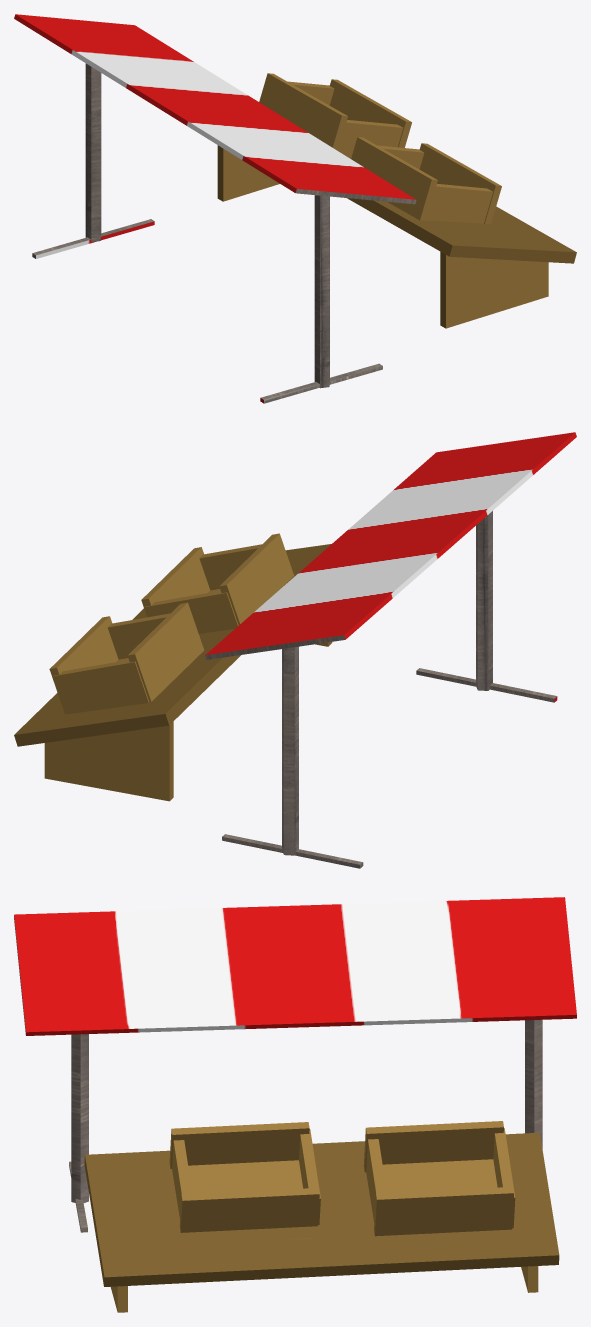
The model's file is Market.fbx.
3 views of the same model, one above another, from view 1: azimuth 30°, elevation 25°; view 2: azimuth 150°, elevation 25°; view 3: azimuth 270°, elevation 25° (orthographic). The views are drawn at different scales.
Visible parts, largest first — view 1: polySurface260, polySurface280, polySurface273, polySurface277; view 2: polySurface260, polySurface280, polySurface277, polySurface273; view 3: polySurface260, polySurface280, polySurface277, polySurface273.
Boxes of the visible parts, <box> form: polySurface260: <box>14,14,416,403</box>; polySurface280: <box>217,145,576,328</box>; polySurface273: <box>351,137,501,224</box>; polySurface277: <box>259,73,411,158</box>; polySurface260: <box>205,432,576,868</box>; polySurface280: <box>14,544,332,801</box>; polySurface277: <box>49,602,204,714</box>; polySurface273: <box>141,533,294,633</box>; polySurface260: <box>14,897,576,1232</box>; polySurface280: <box>84,1132,559,1312</box>; polySurface277: <box>363,1121,515,1236</box>; polySurface273: <box>169,1122,320,1232</box>.
Size of the model in its own units: 3.15 by 1.97 by 3.92.
